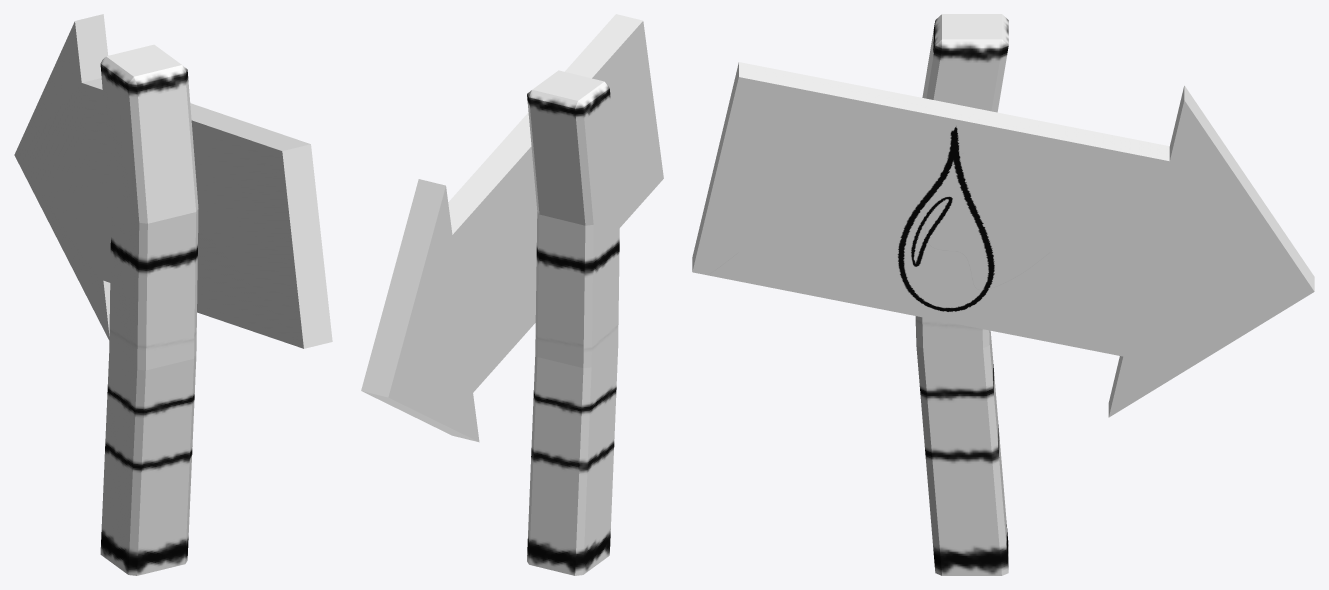
File: Bord_water.fbx
3 views of the same model, side by side, from view 1: azimuth 30°, elevation 25°; view 2: azimuth 150°, elevation 25°; view 3: azimuth 270°, elevation 25° (orthographic). The views are drawn at different scales.
Visible parts, largest first — view 1: Bord water; view 2: Bord water; view 3: Bord water.
Part boxes in pixels (bbox=[...]): Bord water: bbox=[14, 14, 332, 575]; Bord water: bbox=[361, 14, 663, 575]; Bord water: bbox=[692, 14, 1314, 575].
Bounding box in the file's own units: 23.66 × 128 × 135.
Materials: 2 (2 with a texture image).
